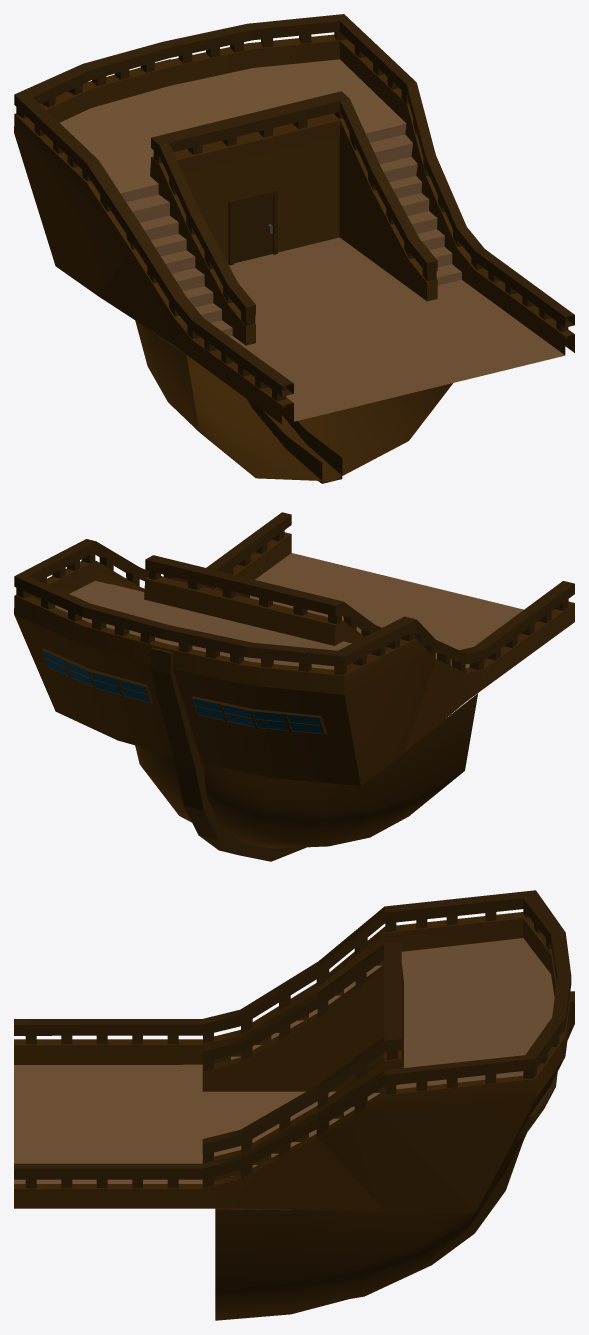
Rendered from Ship_Rear 1.fbx.
3 views of the same model, one above another, from view 1: azimuth 30°, elevation 25°; view 2: azimuth 150°, elevation 25°; view 3: azimuth 270°, elevation 25° (orthographic). The views are drawn at different scales.
Visible parts, largest first — view 1: pCube65; view 2: pCube65; view 3: pCube65.
Boxes of the visible parts, x1,y1,x2,y2 form: pCube65: (14,14,574,483); pCube65: (14,512,574,861); pCube65: (14,890,574,1320).
Bounding box in the file's own units: 12.27 × 11.18 × 17.22.
